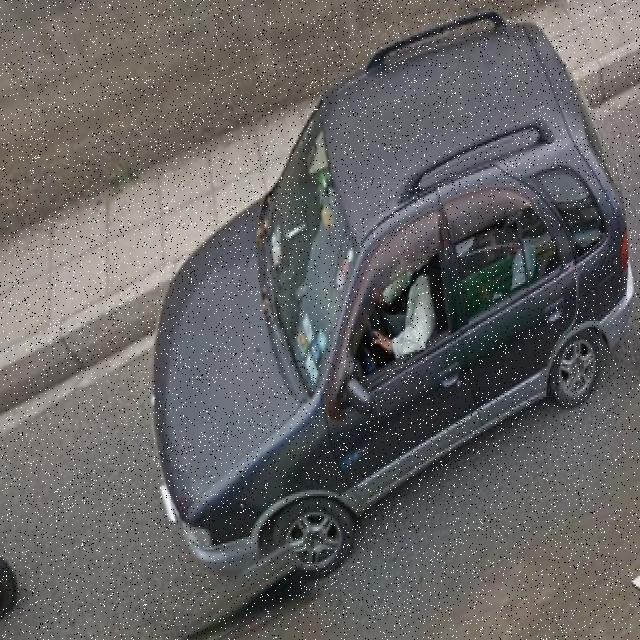cars: (148, 16, 632, 582)
